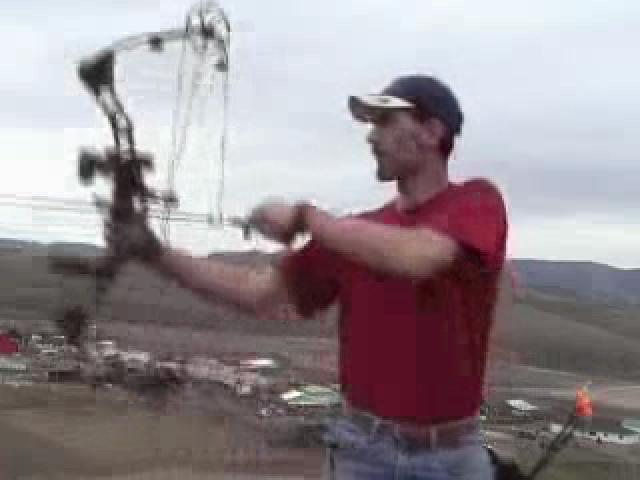P: (97, 71, 507, 476)
